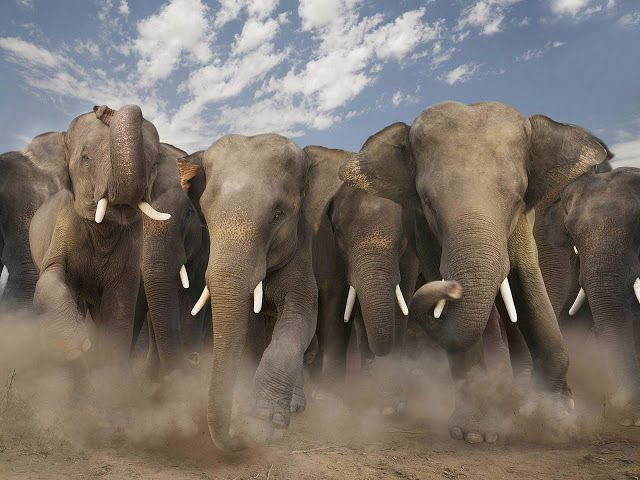elephant: (339, 96, 606, 449), (175, 130, 333, 460), (10, 97, 169, 377), (307, 137, 422, 438), (546, 149, 640, 433), (118, 130, 214, 388)
